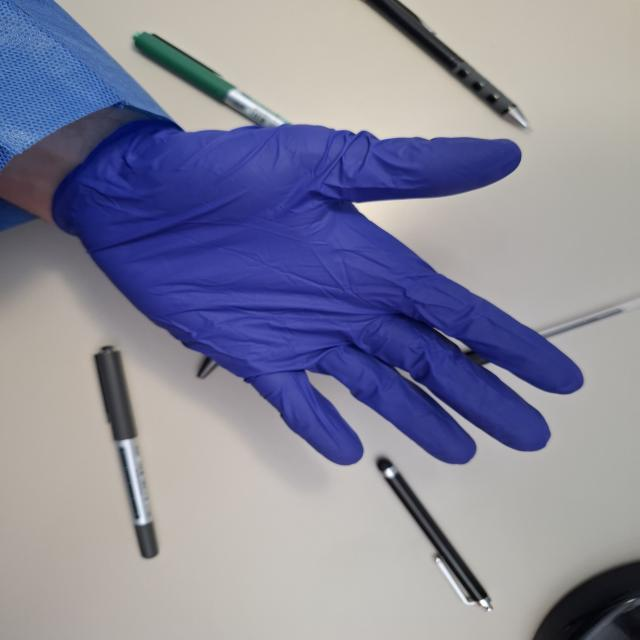glove_on: (45, 112, 590, 460)
